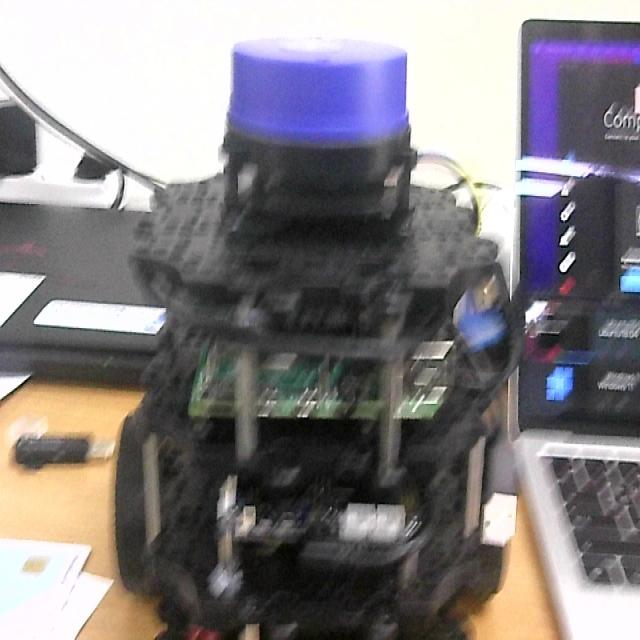turtle: (108, 30, 521, 640)
